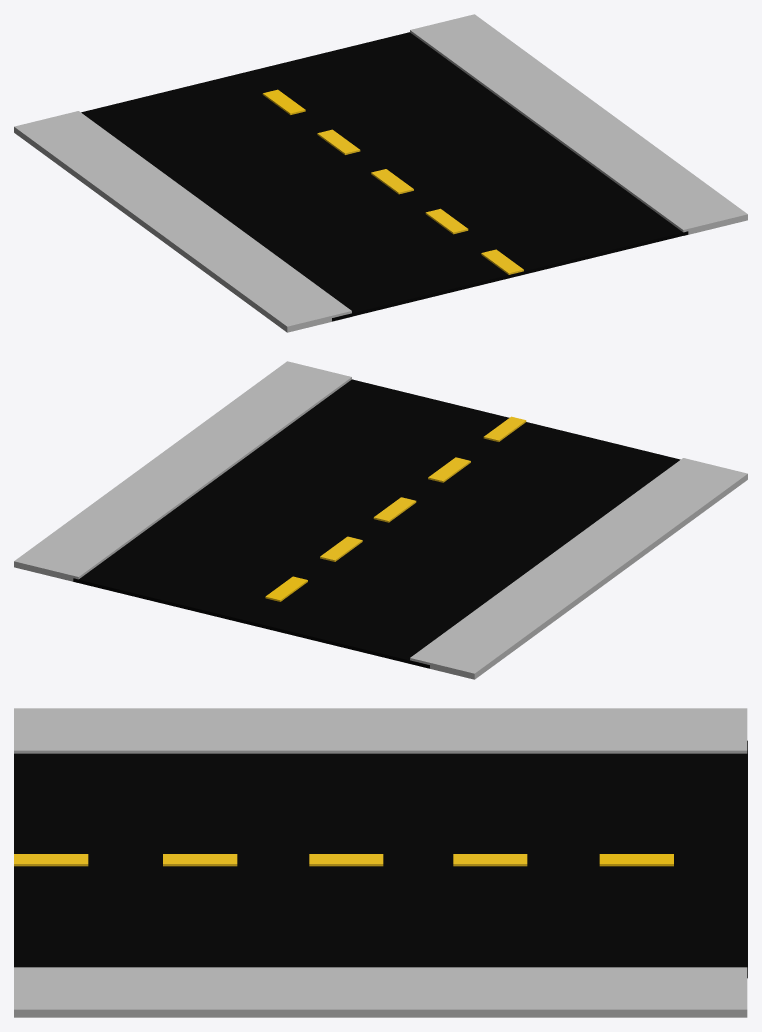
File: roadPiece (1).fbx
3 renders of one model, top to bottom at view 1: azimuth 30°, elevation 25°; view 2: azimuth 150°, elevation 25°; view 3: azimuth 270°, elevation 25°, orthographic. The views are drawn at different scales.
Parts seen in each view (by area): view 1: Cube.001; view 2: Cube.001; view 3: Cube.001.
Boxes of the visible parts, bbox=[...] form: Cube.001: bbox=[14, 14, 747, 332]; Cube.001: bbox=[14, 361, 747, 679]; Cube.001: bbox=[14, 708, 747, 1017].
Bounding box in the file's own units: 2918 × 36.66 × 3002.
